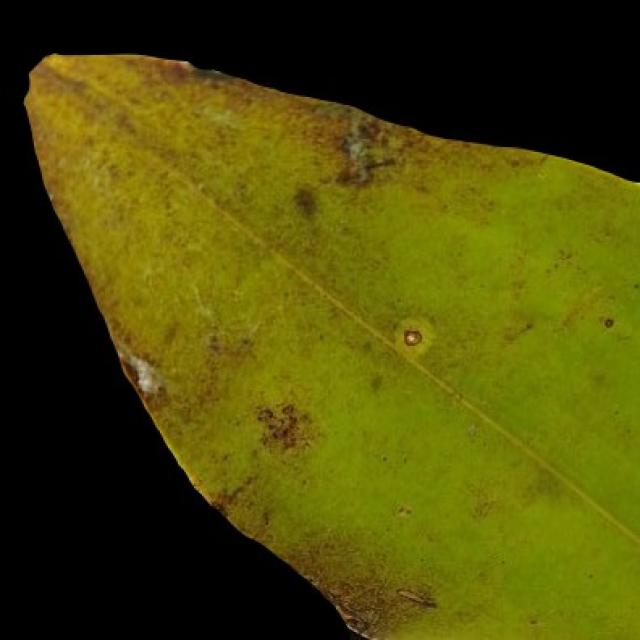mite: (246, 178, 638, 567), (249, 270, 638, 456), (388, 268, 638, 362), (391, 305, 624, 352), (381, 304, 443, 362), (595, 273, 638, 336), (391, 314, 433, 354), (590, 304, 624, 339), (595, 309, 619, 333), (402, 326, 422, 346), (601, 314, 614, 330), (630, 278, 638, 293)
spots: (23, 50, 638, 638)
sunburn: (249, 396, 323, 459)
